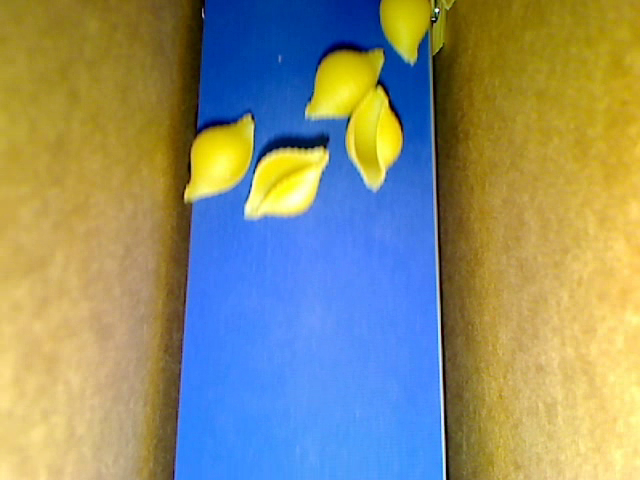penne: (430, 1, 449, 56), (443, 1, 458, 11)
shell: (181, 109, 255, 205), (242, 145, 330, 222), (345, 84, 405, 192), (301, 46, 384, 123), (379, 1, 433, 67)
